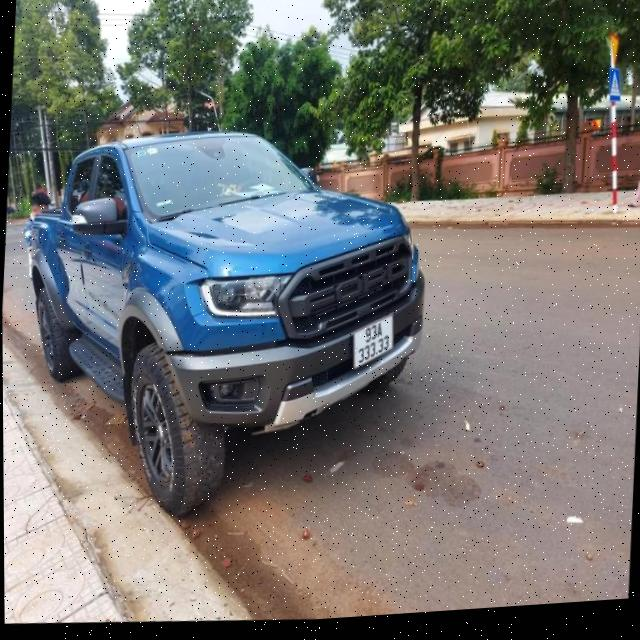car: (15, 101, 444, 540)
plate: (344, 311, 399, 374)
